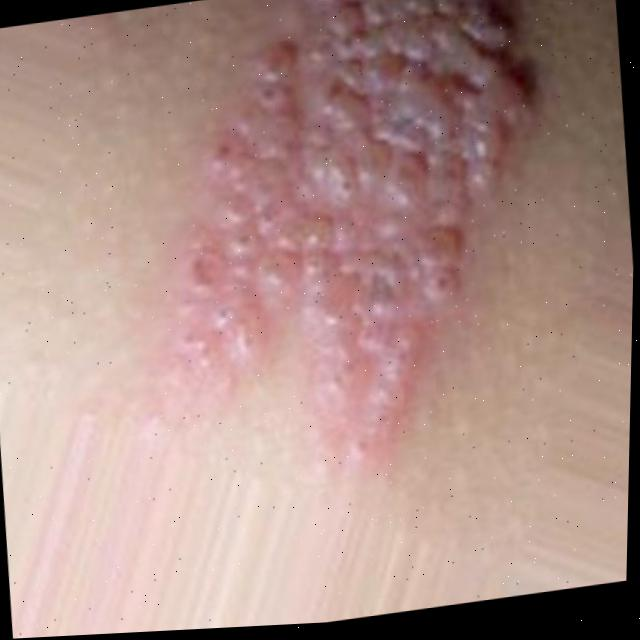Shingles: (140, 0, 573, 463)
